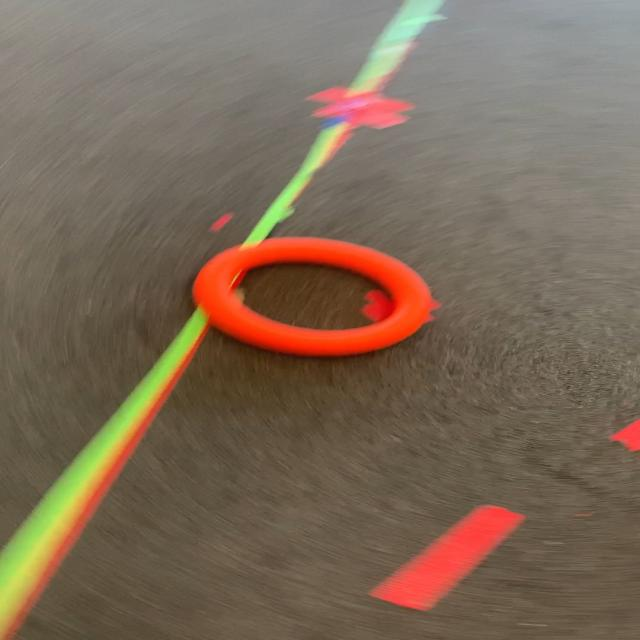notes: (195, 237, 432, 357)
